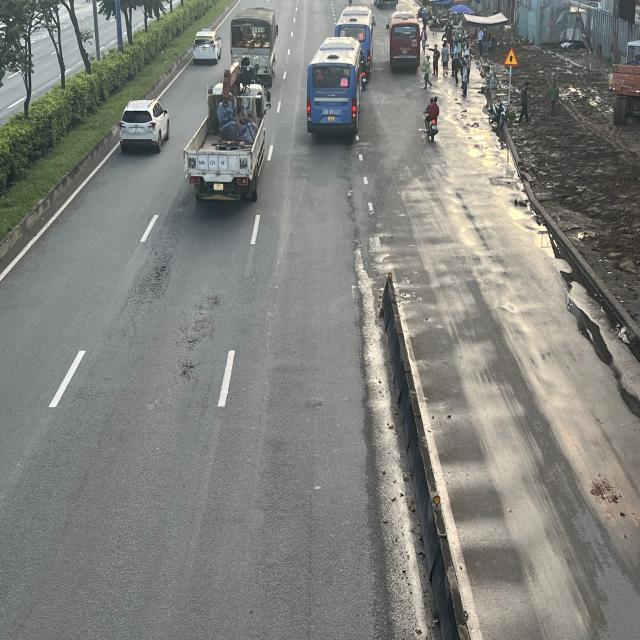car: (119, 101, 171, 157), (193, 28, 223, 66)
coach: (304, 38, 361, 138), (336, 4, 376, 76), (390, 16, 424, 73)
truck: (184, 62, 270, 204), (229, 7, 279, 81)
